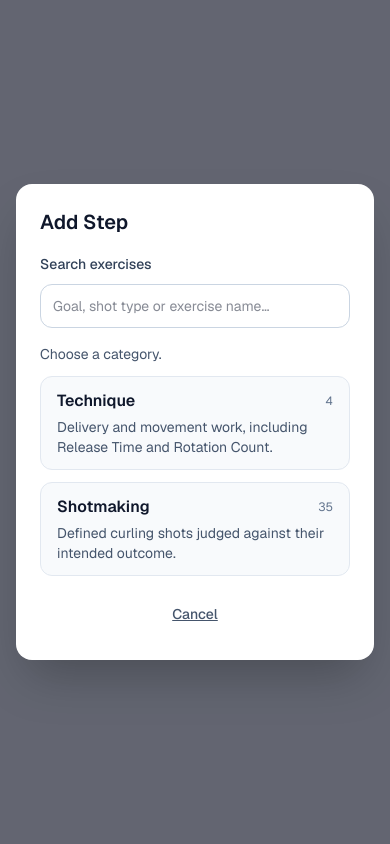
Scenario: TrainingPlanStepEditor — Smart Random Profiles › passes saved profiles through to the embedded TrainingSetup, reachable for Variable Weight
Type "Release Time" into the search field labelled "Search exercises" at (195, 306), box [40,284,350,328]
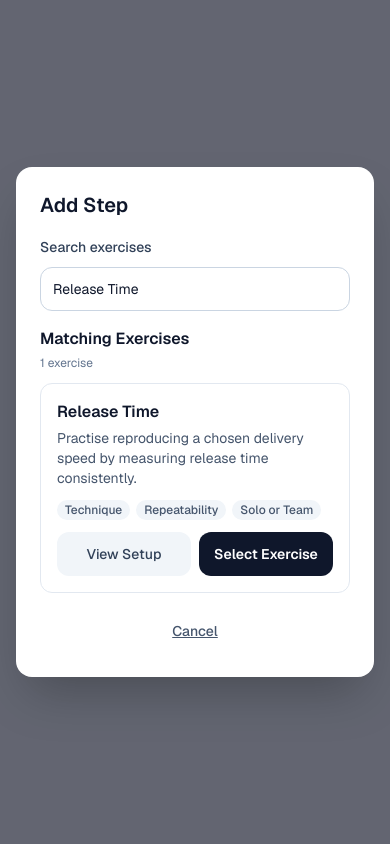
Click the button "Select Exercise" at (266, 554), box [199,532,333,576]
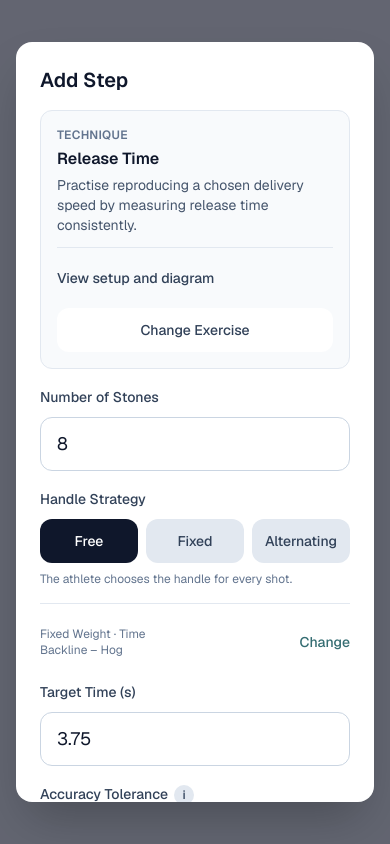
Click the button "Change" at (325, 642), box [300,620,350,664]
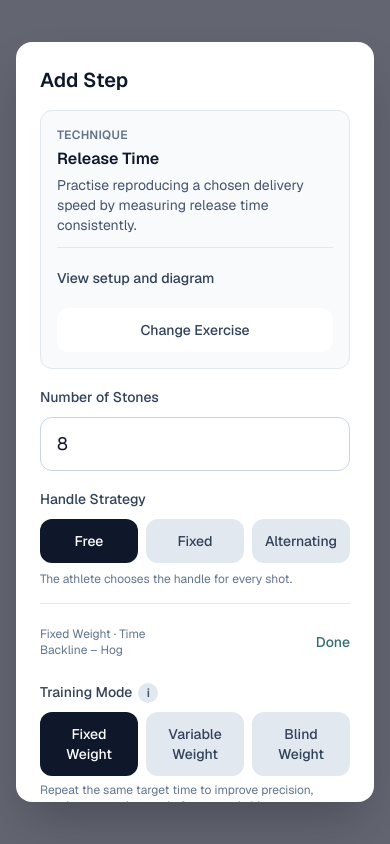
Click the button "Variable Weight" at (195, 744), box [146,712,244,776]
(page scrolled)
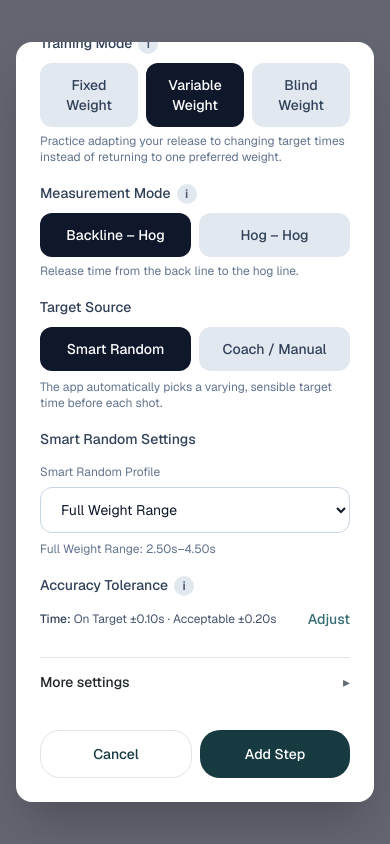
Now the dropdown labelled "Smart Random Profile" is shown, box [40,487,350,533]
Now the text "Full Weight Range: 2.50s–4.50s" is shown, box [40,541,216,557]
